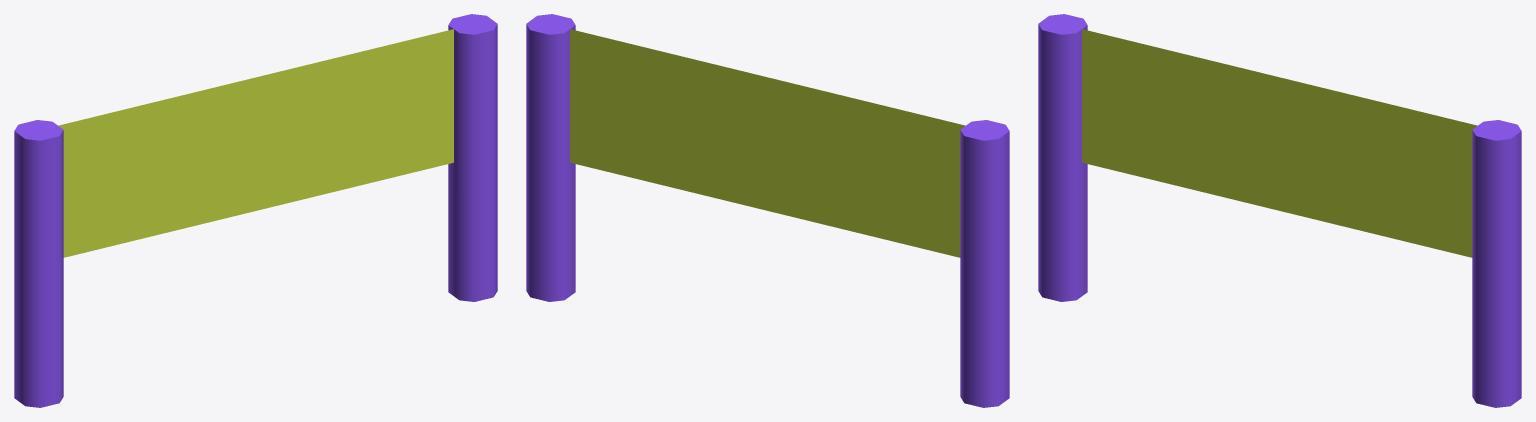
The model's file is banner.fbx.
3 renders of one model, left to right at view 1: azimuth 30°, elevation 25°; view 2: azimuth 150°, elevation 25°; view 3: azimuth 330°, elevation 25°, orthographic.
Visible parts, largest first — view 1: banner; view 2: banner; view 3: banner.
Boxes of the visible parts, x1,y1,x2,y2 form: banner: (14,14,497,407); banner: (526,14,1009,407); banner: (1038,14,1521,407).
Size of the model in its own units: 9.25 by 5 by 0.75.
